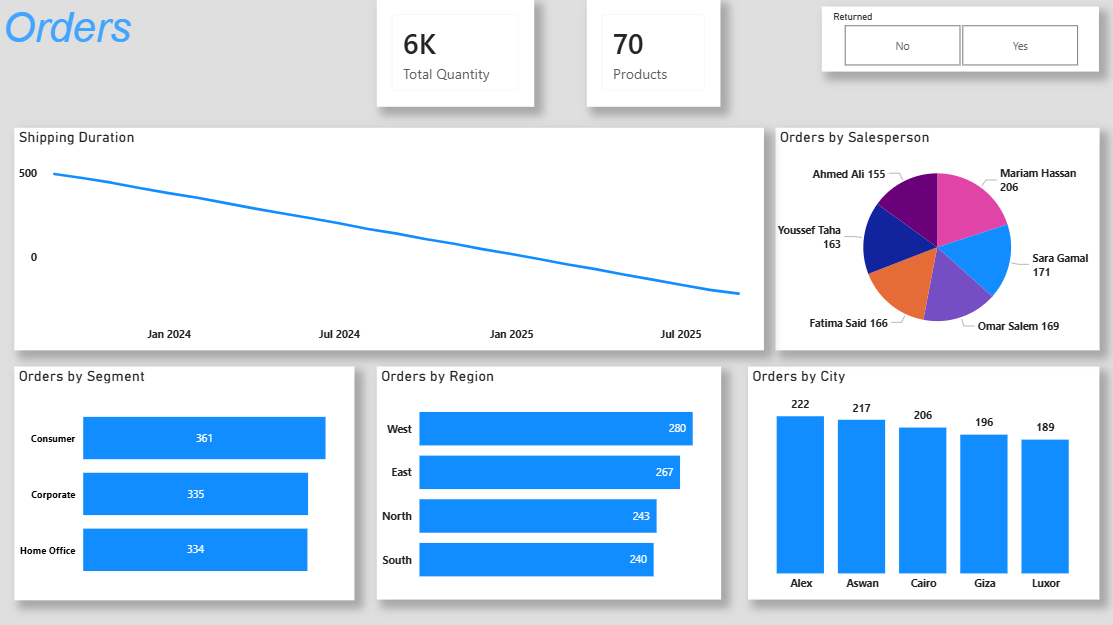

This screenshot's page, from the dashboard's own definition file:
{"tool":"powerbi","page":{"name":"Orders","canvas":[1280,720],"ordinal":1},"visuals":[{"type":"clusteredColumnChart","fields":{"Category":["Test.City"],"Y":["Test.Orders"]},"box":[856.7,420,401.7,266.7],"z":0},{"type":"pieChart","fields":{"Category":["Test.Salesperson"],"Y":["Test.Orders"]},"box":[888.6,147.1,370,254.3],"z":1000},{"type":"cardVisual","fields":{"Data":["Test.Products"]},"box":[672.9,0,152.9,122.9],"z":2000},{"type":"slicer","fields":{"Values":["Test.Returned"]},"box":[941.4,8.6,317.1,74.3],"z":3000},{"type":"cardVisual","fields":{"Data":["Sum(Test.Quantity)"]},"box":[432.9,0,180,122.9],"z":4000},{"type":"lineChart","title":"Shipping Duration","fields":{"Y":["Avg(Test.DDD)"],"Category":["Test.OrderDate.Variation.Date Hierarchy.Year","Test.OrderDate.Variation.Date Hierarchy.Month"]},"box":[18.6,147.1,857.1,254.3],"z":5000},{"type":"textbox","box":[0,0,247.1,91.4],"z":6000},{"type":"barChart","fields":{"Category":["Test.Region"],"Y":["Test.Orders"]},"box":[433.3,420,393.3,266.7],"z":7000},{"type":"barChart","fields":{"Category":["Test.Segment"],"Y":["Test.Orders"]},"box":[18.6,420,388.6,267.1],"z":8000}]}

Visuals, with their boxes in screenshot pixels (x1, y1, x2, y2), scaled from the page's 1280x720 canvas onto the 1113x625 screenshot:
clusteredColumnChart - Test.City x Test.Orders: <region>745, 365, 1094, 596</region>
pieChart - Test.Salesperson x Test.Orders: <region>773, 128, 1094, 348</region>
cardVisual - Test.Products: <region>585, 0, 718, 107</region>
slicer - Test.Returned: <region>819, 7, 1094, 72</region>
cardVisual - Sum(Test.Quantity): <region>376, 0, 533, 107</region>
"Shipping Duration" lineChart: <region>16, 128, 761, 348</region>
textbox: <region>0, 0, 215, 79</region>
barChart - Test.Region x Test.Orders: <region>377, 365, 719, 596</region>
barChart - Test.Segment x Test.Orders: <region>16, 365, 354, 596</region>
